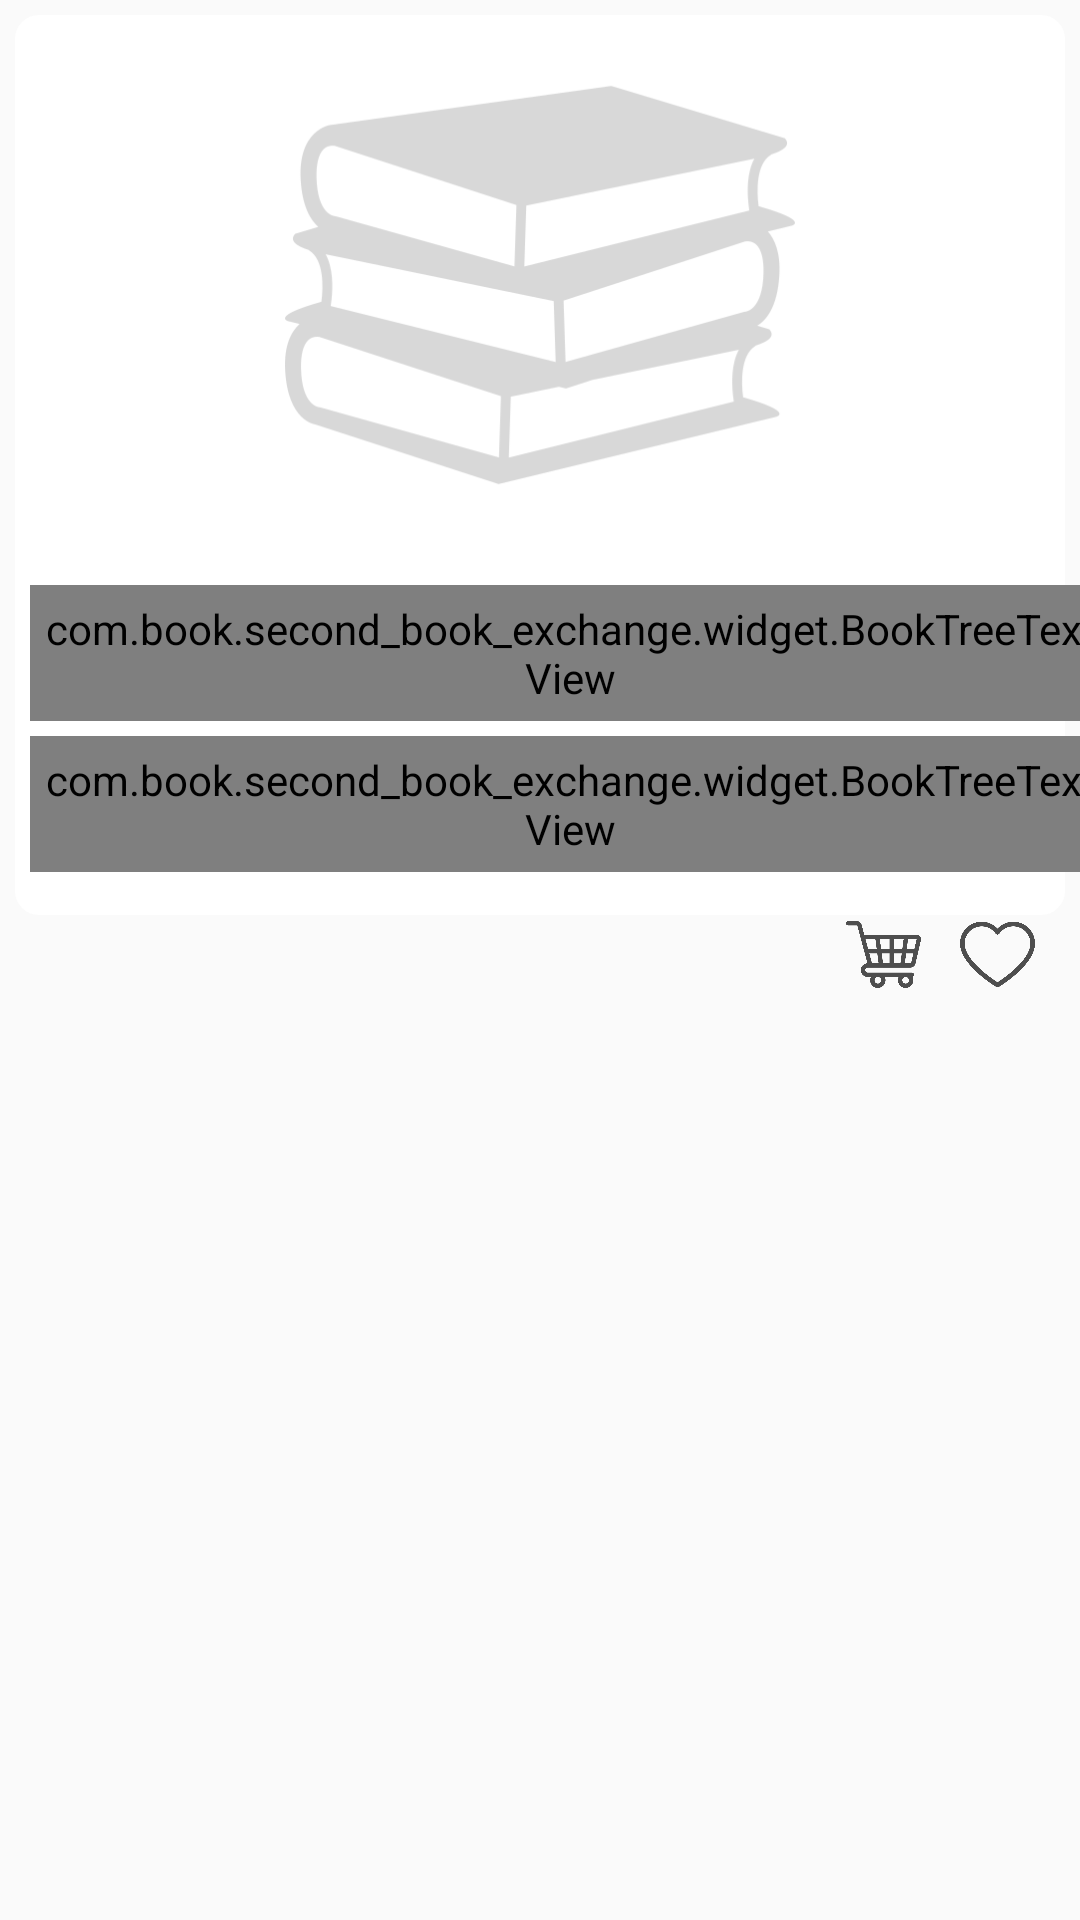

Where icons sit on this 1080 × 1920 app screen, as (x1, y1, x2, y2):
love: (960, 922, 1035, 987)
shopcart: (846, 921, 921, 988)
